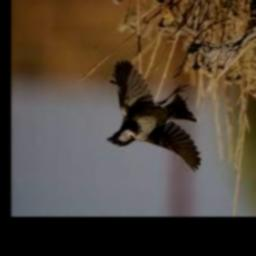Sparrow: (107, 61, 201, 172)
